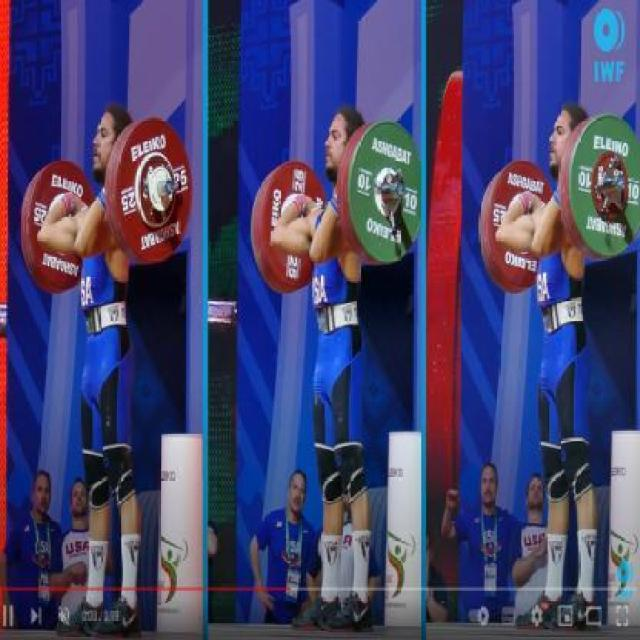barbell: (113, 111, 197, 264), (348, 116, 425, 270), (568, 110, 640, 261)
